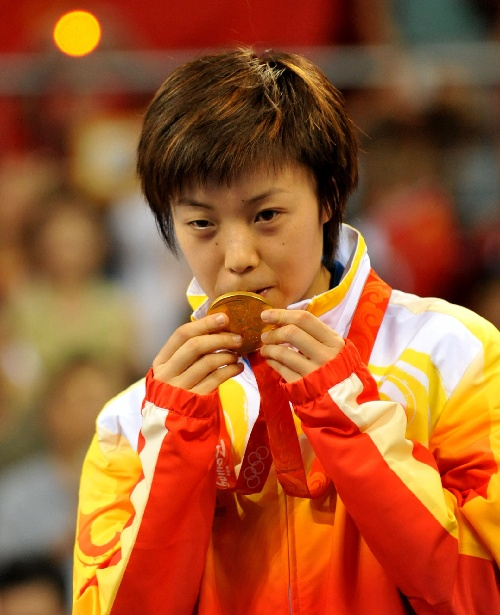face: (182, 125, 318, 317)
